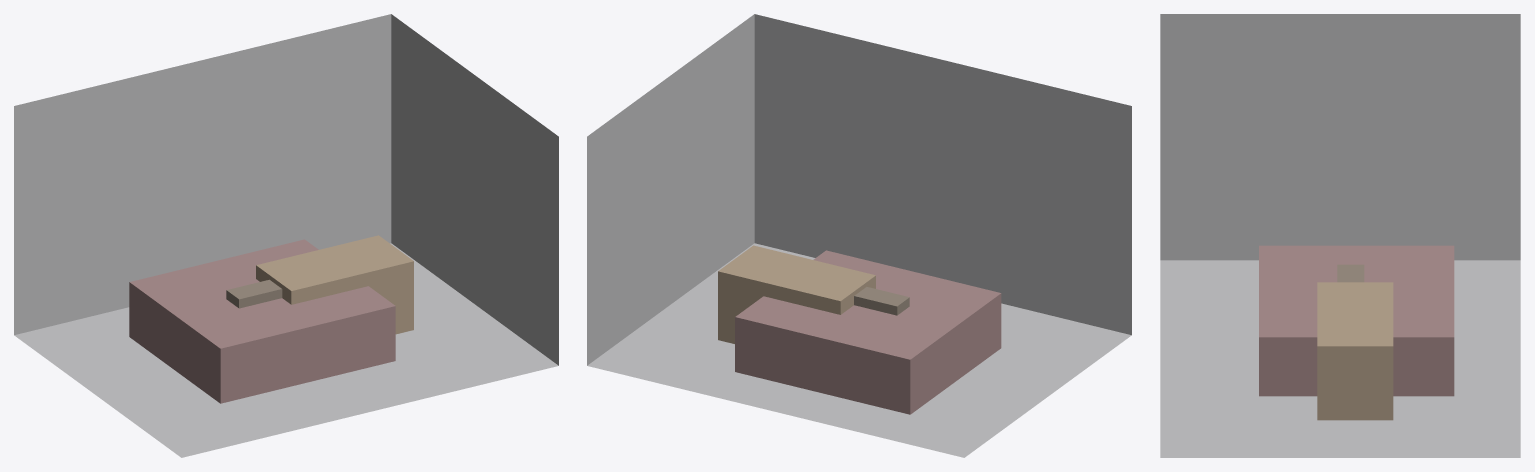
Rendered from optimised_layout.glb.
3 renders of one model, left to right at view 1: azimuth 30°, elevation 25°; view 2: azimuth 150°, elevation 25°; view 3: azimuth 270°, elevation 25°, orthographic. The views are drawn at different scales.
Visible parts, largest first — view 1: room, bed, desk, suitcase; view 2: room, bed, desk, suitcase; view 3: room, bed, desk, suitcase.
Boxes of the visible parts, x1,y1,x2,y2 form: room: (14, 14, 558, 457); bed: (129, 239, 395, 403); desk: (256, 235, 413, 334); suitcase: (226, 279, 282, 308); room: (587, 14, 1131, 457); bed: (735, 250, 1001, 414); desk: (718, 245, 875, 343); suitcase: (854, 287, 909, 315); room: (1160, 14, 1520, 457); bed: (1259, 245, 1454, 396); desk: (1317, 282, 1393, 420); suitcase: (1337, 264, 1364, 282).
Size of the model in its own units: 4.31 by 2.5 by 3.31.
